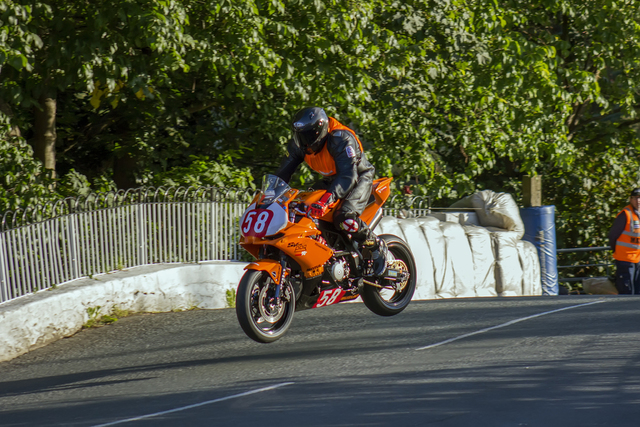helmet: (287, 107, 331, 146)
